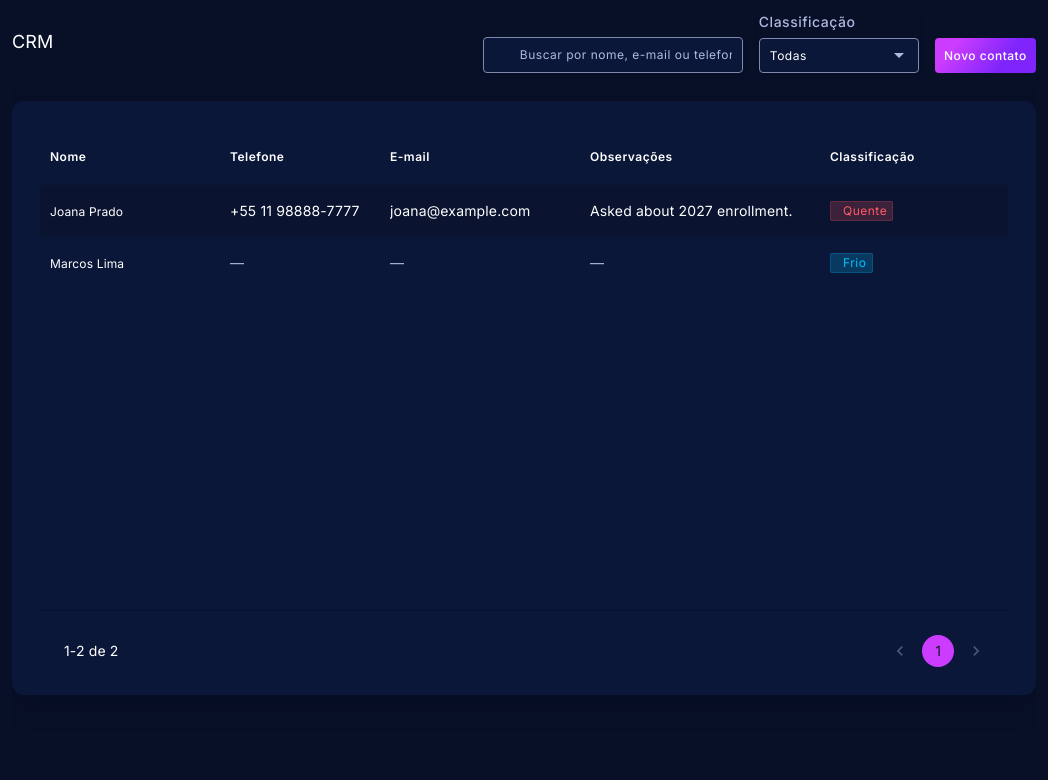
CrmContacts page › filters by temperature through the query string
Expected: the text "Marcos Lima" is shown, 50,256 -> 124,271
Step 1. Click the dropdown named "classificação" → click(788, 55), box 770,48 -> 807,63
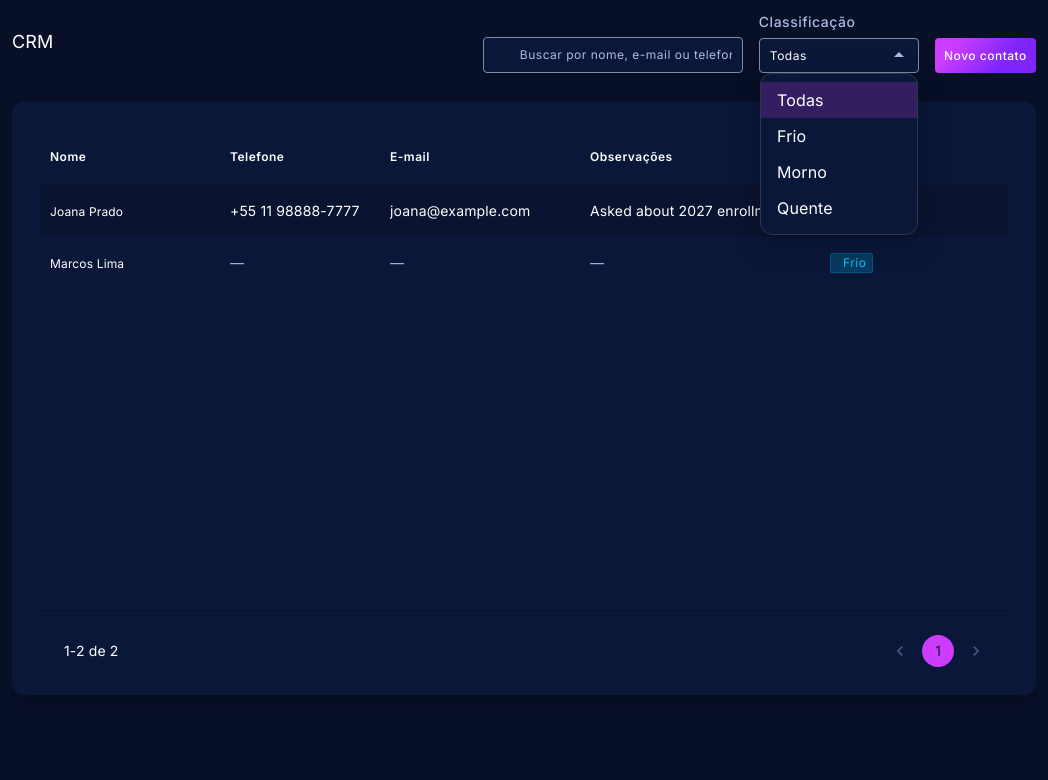
Step 2. Click the option "Quente" → click(805, 208), box 777,198 -> 833,218
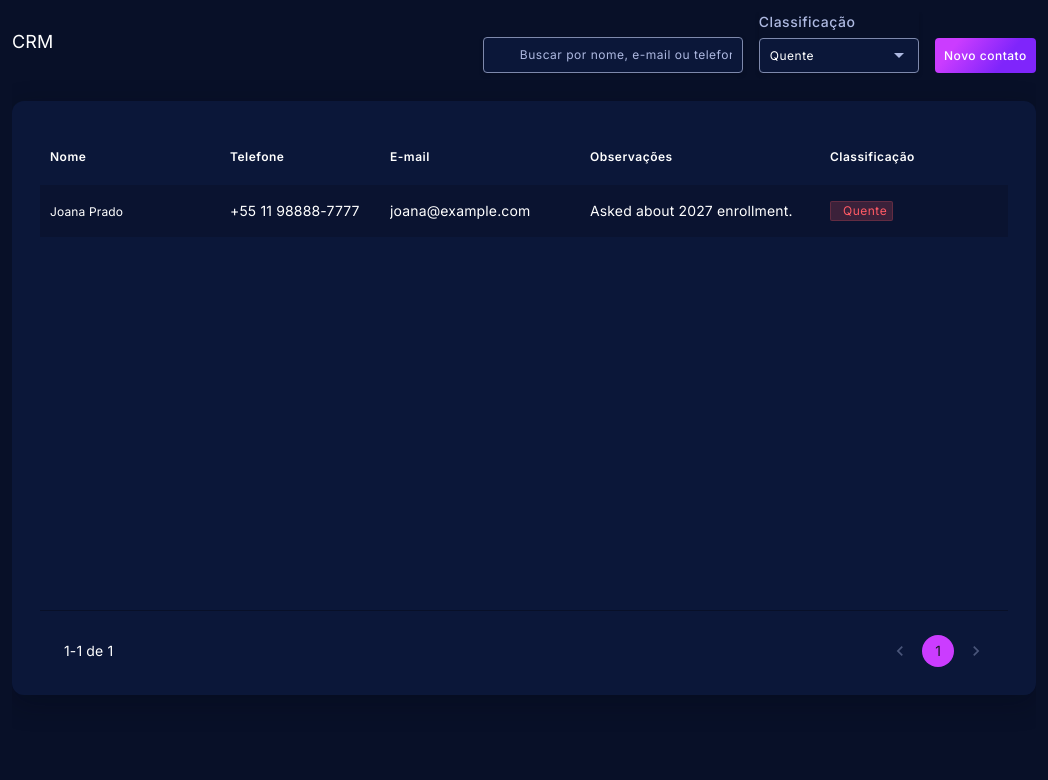
Expected: the text "Marcos Lima" is gone
